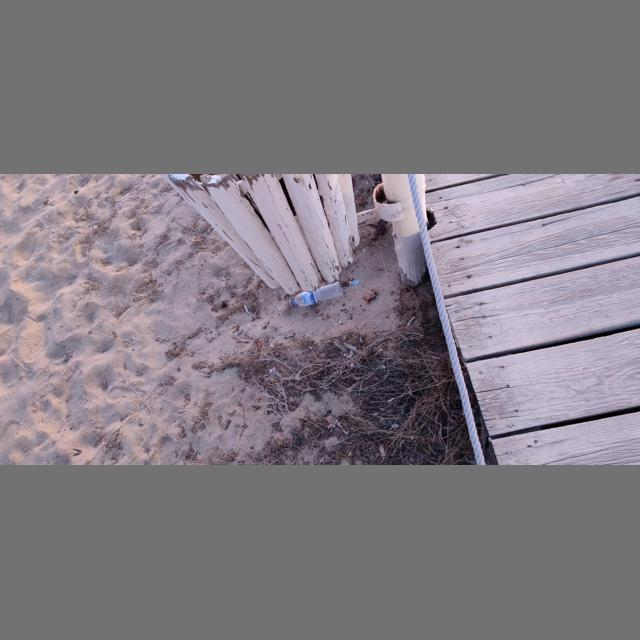litter: (289, 282, 344, 308), (349, 280, 360, 286), (355, 200, 362, 204), (192, 239, 200, 242)
